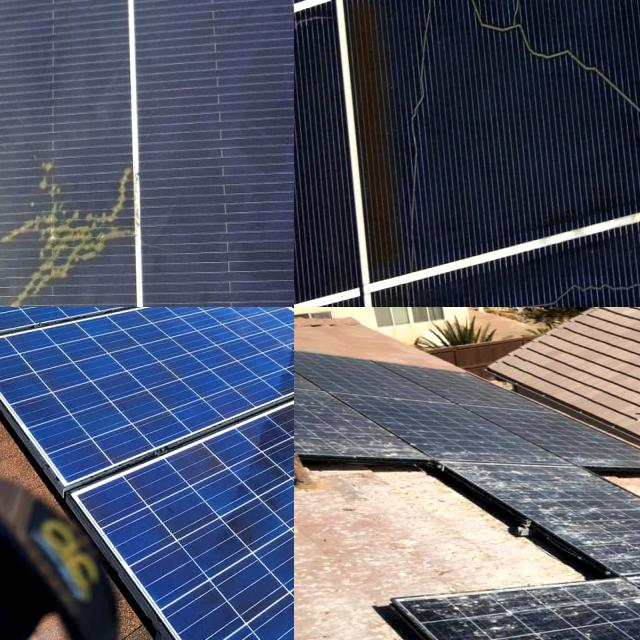bird: (484, 471, 640, 543), (445, 592, 550, 640), (576, 597, 640, 640)
crack: (0, 307, 294, 516), (0, 307, 243, 387), (156, 307, 294, 352)
shadow: (463, 0, 640, 188), (0, 126, 156, 307), (388, 0, 442, 263), (375, 263, 640, 307), (430, 0, 469, 68), (294, 5, 344, 48)
